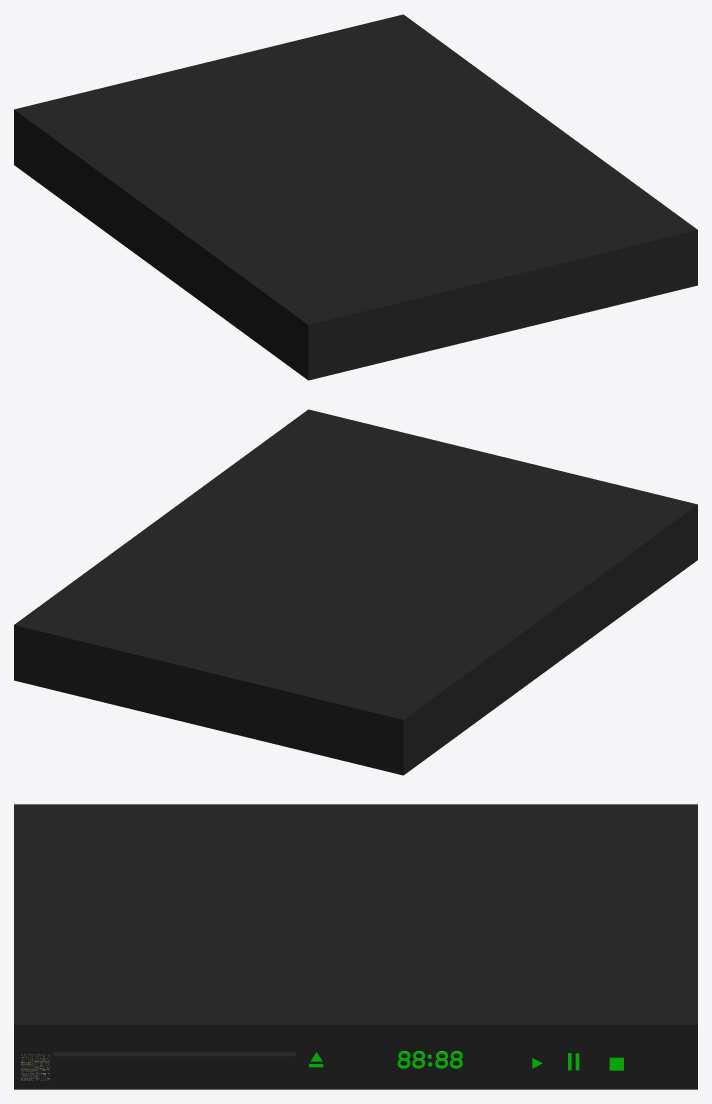
3 renders of one model, top to bottom at view 1: azimuth 30°, elevation 25°; view 2: azimuth 150°, elevation 25°; view 3: azimuth 270°, elevation 25°, orthographic. The views are drawn at different scales.
Parts seen in each view (by area): view 1: Mesh7_Model; view 2: Mesh7_Model; view 3: Mesh7_Model.
Boxes of the visible parts, x1,y1,x2,y2 form: Mesh7_Model: (14, 14, 697, 380); Mesh7_Model: (14, 409, 697, 775); Mesh7_Model: (14, 804, 697, 1089).
Bounding box in the file's own units: 0.75 × 0.102 × 0.9793.
Materials: 3 (1 with a texture image).
